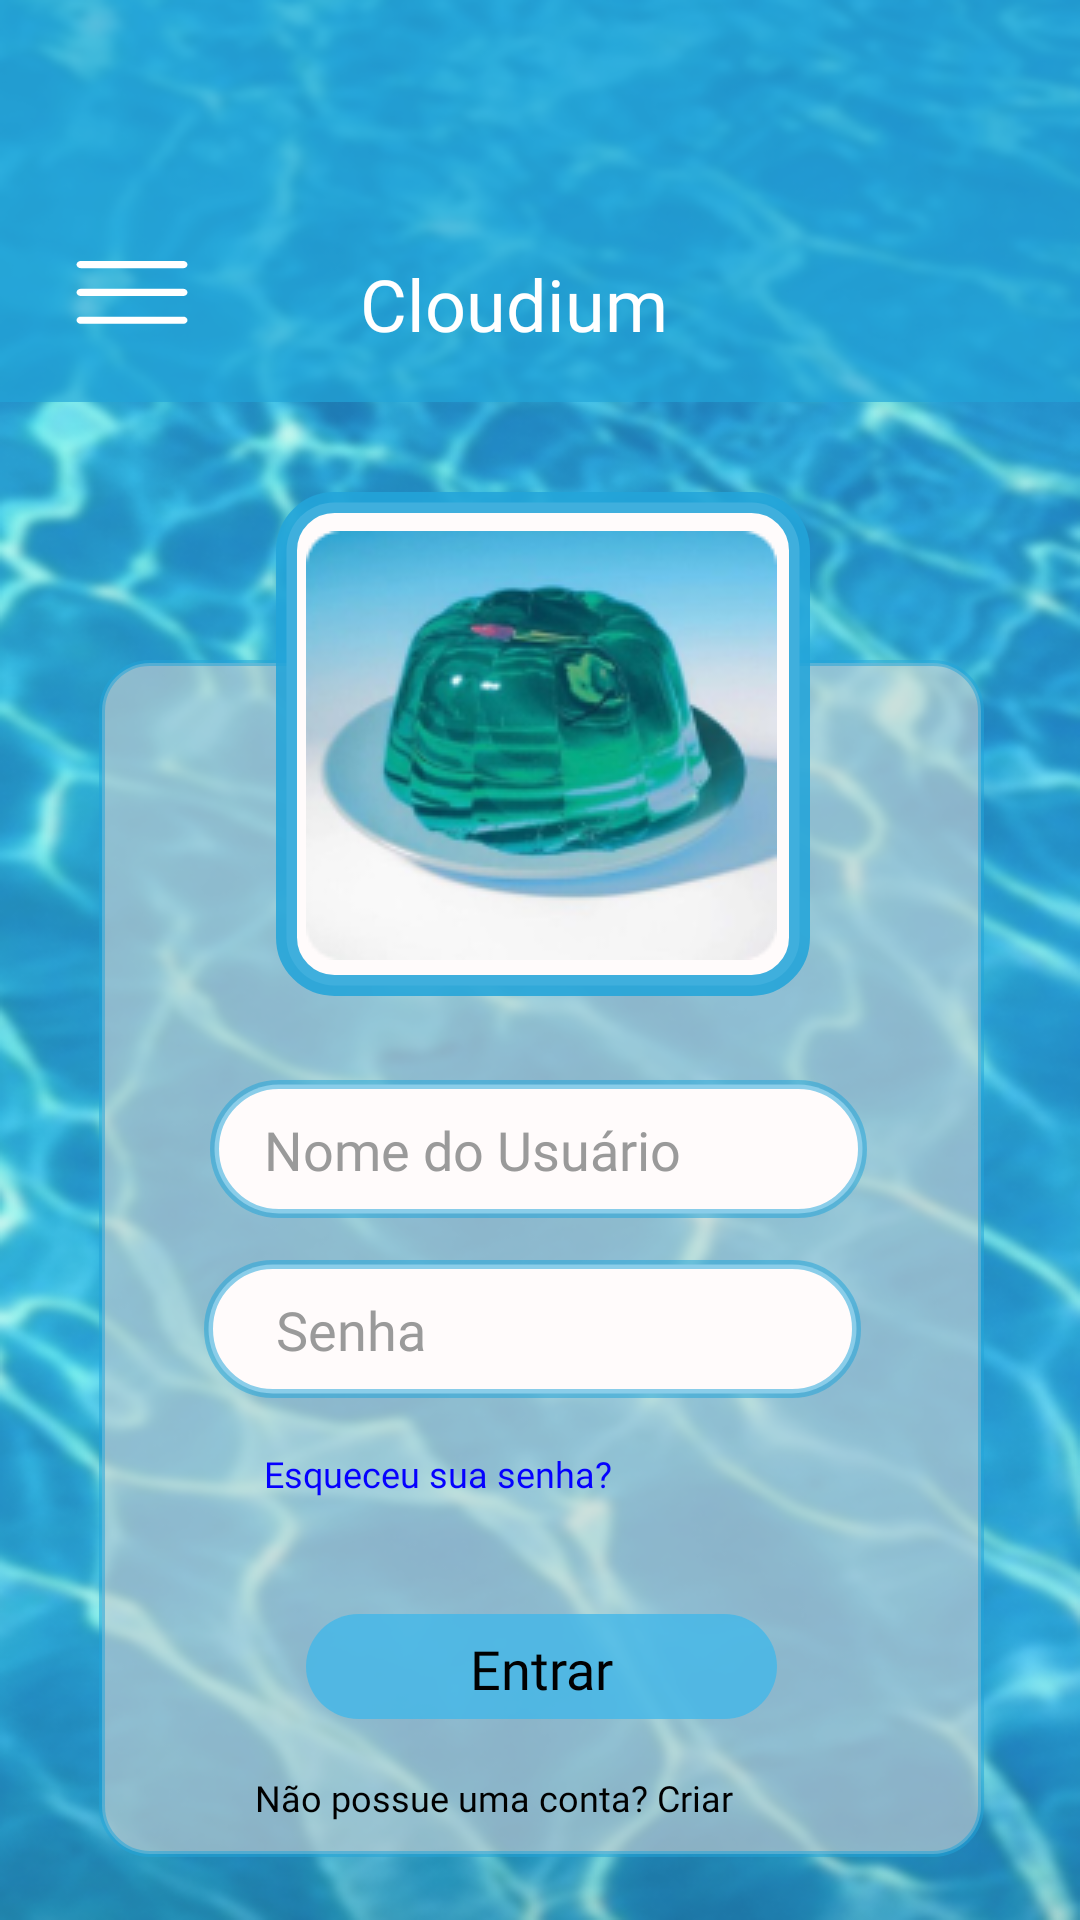

Locate icon controls on the screen. Image size 1080px×1920px, boxes as (x1, y1, x2, y2).
menu: (72, 261, 188, 324)
